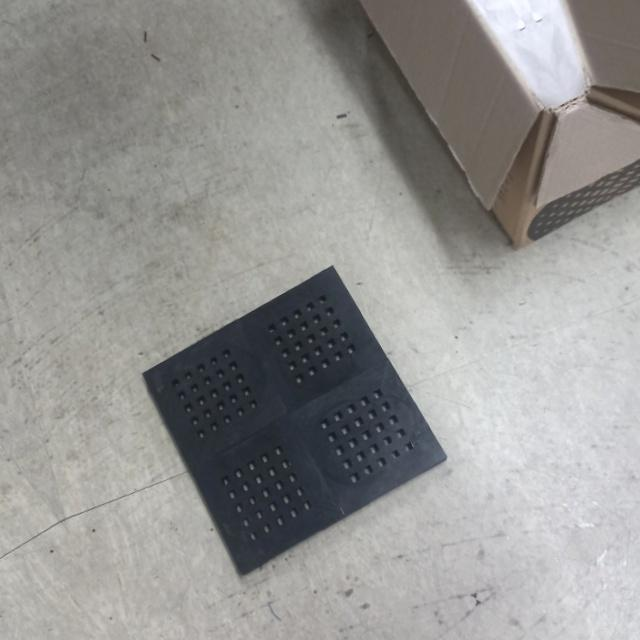pallet: (124, 248, 462, 584)
